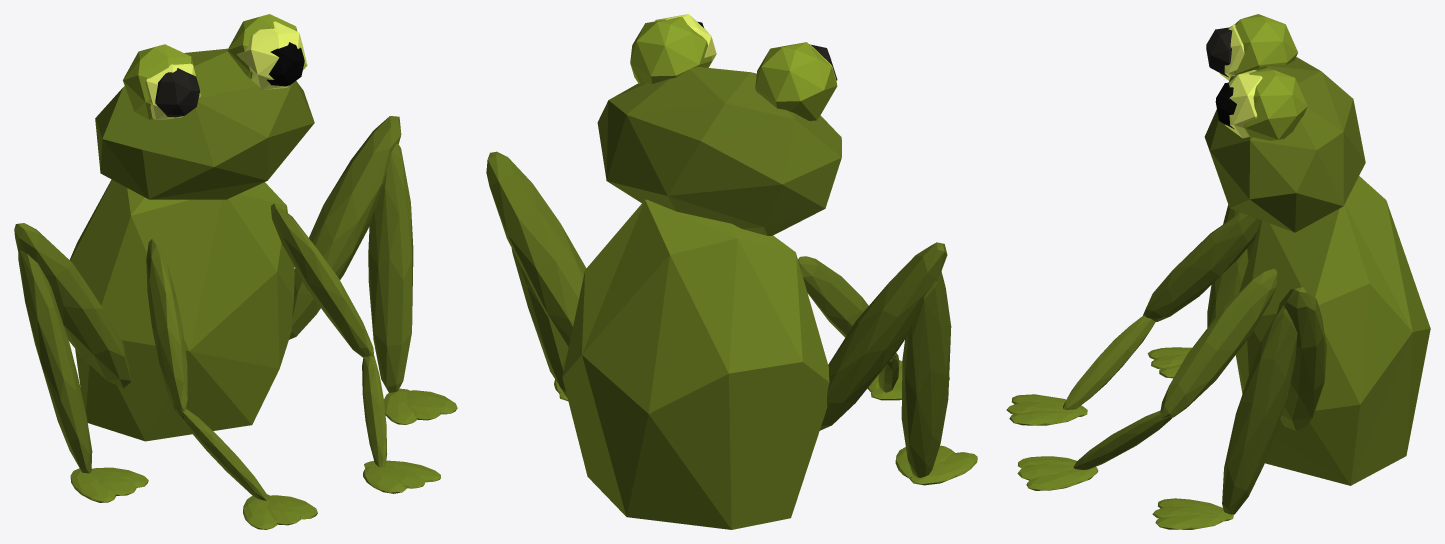
The model's file is frog_green.fbx.
3 renders of one model, left to right at view 1: azimuth 30°, elevation 25°; view 2: azimuth 150°, elevation 25°; view 3: azimuth 270°, elevation 25°, orthographic. The views are drawn at different scales.
Parts seen in each view (by area): view 1: Sphere.004, Sphere.010, Sphere.037, Sphere.036, Sphere.031, Sphere.030, Sphere.035, Sphere.032, Sphere.029, Sphere.027, Sphere.034, Sphere.033 (+8 smaller); view 2: Sphere.004, Sphere.010, Sphere.036, Sphere.031, Sphere.030, Sphere.029, Sphere.021, Sphere.032, Sphere.037, Sphere.020, Sphere.024; view 3: Sphere.004, Sphere.010, Sphere.037, Sphere.035, Sphere.032, Sphere.036, Sphere.021, Sphere.029, Sphere.033, Sphere.025, Sphere.034, Sphere.023 (+7 smaller).
Part boxes in pixels (<box>): Sphere.004: <box>70,179,294,441</box>; Sphere.010: <box>95,48,314,199</box>; Sphere.037: <box>368,143,413,392</box>; Sphere.036: <box>289,116,401,339</box>; Sphere.031: <box>14,223,130,388</box>; Sphere.030: <box>18,250,92,473</box>; Sphere.035: <box>270,203,373,357</box>; Sphere.032: <box>146,238,188,415</box>; Sphere.029: <box>123,44,196,119</box>; Sphere.027: <box>237,21,307,89</box>; Sphere.034: <box>362,355,387,467</box>; Sphere.033: <box>173,404,269,500</box>; Sphere.004: <box>562,199,829,529</box>; Sphere.010: <box>597,66,841,235</box>; Sphere.036: <box>486,151,586,347</box>; Sphere.031: <box>819,242,947,430</box>; Sphere.030: <box>901,271,951,477</box>; Sphere.029: <box>755,42,837,120</box>; Sphere.021: <box>630,16,712,84</box>; Sphere.032: <box>798,256,895,362</box>; Sphere.037: <box>511,248,568,397</box>; Sphere.020: <box>895,445,977,485</box>; Sphere.024: <box>867,360,949,400</box>; Sphere.004: <box>1235,176,1430,485</box>; Sphere.010: <box>1204,57,1365,232</box>; Sphere.037: <box>1222,305,1297,514</box>; Sphere.035: <box>1160,268,1278,419</box>; Sphere.032: <box>1143,212,1260,322</box>; Sphere.036: <box>1276,286,1326,430</box>; Sphere.021: <box>1243,68,1307,140</box>; Sphere.029: <box>1234,14,1297,75</box>; Sphere.033: <box>1063,315,1155,409</box>; Sphere.025: <box>1017,456,1098,490</box>; Sphere.034: <box>1073,410,1175,469</box>; Sphere.023: <box>1152,498,1233,529</box>.
Bounding box in the file's own units: 368 × 348 × 336.
